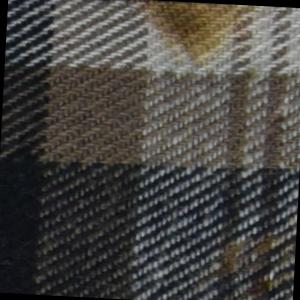Oil Stain: (138, 1, 258, 71), (202, 230, 297, 300)
